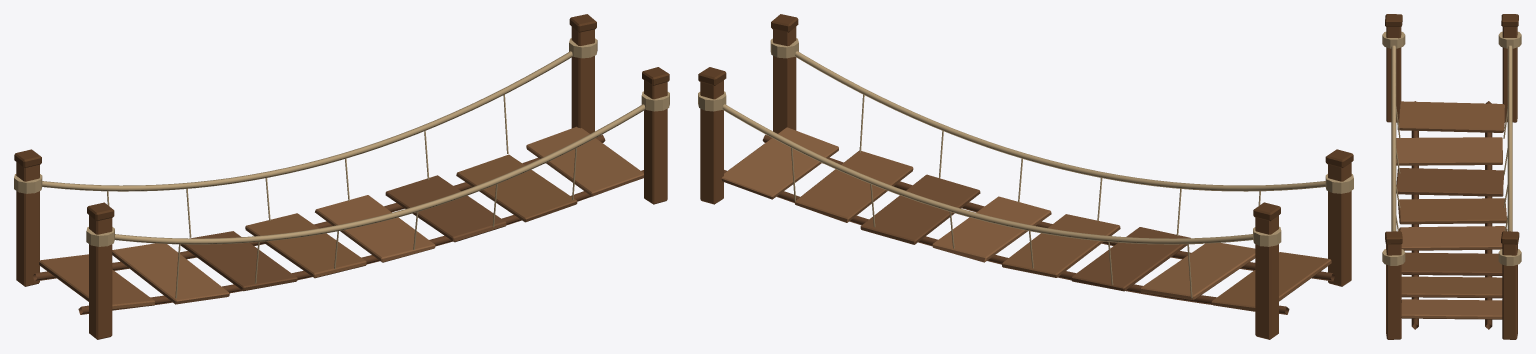
Rendered from wooden bridge.fbx.
3 renders of one model, left to right at view 1: azimuth 30°, elevation 25°; view 2: azimuth 150°, elevation 25°; view 3: azimuth 270°, elevation 25°, orthographic. The views are drawn at different scales.
Visible parts, largest first — view 1: Plank_07, Plank_06, Plank_05, Plank_04, Handrail_F, Handrail_B, Plank_01, Plank_03, Plank_02, Post_RF, Post_LF, Post_LB (+4 smaller); view 2: Plank_06, Plank_07, Plank_05, Handrail_B, Handrail_F, Plank_04, Plank_01, Plank_03, Plank_02, Post_LB, Post_RB, Plank_00 (+4 smaller); view 3: Plank_00, Plank_01, Plank_02, Plank_03, Plank_04, Plank_05, Plank_06, Plank_07, Post_RF, Post_RB, Handrail_B, Handrail_F (+12 smaller).
Part boxes in pixels (x1=…): Plank_07: x1=526, y1=126, x2=643, y2=196; Plank_06: x1=456, y1=154, x2=577, y2=222; Plank_05: x1=385, y1=175, x2=506, y2=242; Plank_04: x1=315, y1=195, x2=435, y2=262; Handrail_F: x1=115, y1=104, x2=645, y2=244; Handrail_B: x1=42, y1=51, x2=572, y2=191; Plank_01: x1=112, y1=243, x2=229, y2=304; Plank_03: x1=245, y1=213, x2=366, y2=278; Plank_02: x1=180, y1=231, x2=297, y2=291; Post_RF: x1=644, y1=80, x2=667, y2=204; Post_LF: x1=89, y1=215, x2=112, y2=339; Post_LB: x1=16, y1=162, x2=39, y2=286; Plank_06: x1=794, y1=150, x2=913, y2=222; Plank_07: x1=721, y1=127, x2=838, y2=199; Plank_05: x1=860, y1=174, x2=980, y2=244; Handrail_B: x1=722, y1=104, x2=1252, y2=244; Handrail_F: x1=795, y1=51, x2=1325, y2=191; Plank_04: x1=932, y1=196, x2=1051, y2=262; Plank_01: x1=1140, y1=243, x2=1255, y2=300; Plank_03: x1=1002, y1=214, x2=1120, y2=277; Plank_02: x1=1071, y1=227, x2=1190, y2=291; Post_LB: x1=1255, y1=215, x2=1278, y2=339; Post_RB: x1=700, y1=80, x2=723, y2=204; Plank_00: x1=1211, y1=252, x2=1331, y2=311; Plank_00: x1=1397, y1=101, x2=1505, y2=132; Plank_01: x1=1396, y1=137, x2=1502, y2=165; Plank_02: x1=1396, y1=168, x2=1504, y2=196; Plank_03: x1=1398, y1=198, x2=1506, y2=224; Plank_04: x1=1399, y1=226, x2=1507, y2=250; Plank_05: x1=1401, y1=252, x2=1502, y2=275; Plank_06: x1=1401, y1=276, x2=1502, y2=298; Plank_07: x1=1401, y1=299, x2=1502, y2=319; Post_RF: x1=1386, y1=244, x2=1401, y2=339; Post_RB: x1=1502, y1=244, x2=1517, y2=339; Handrail_B: x1=1507, y1=45, x2=1512, y2=231; Handrail_F: x1=1391, y1=45, x2=1396, y2=231.
Bounding box in the file's own units: 876 × 195 × 228.
